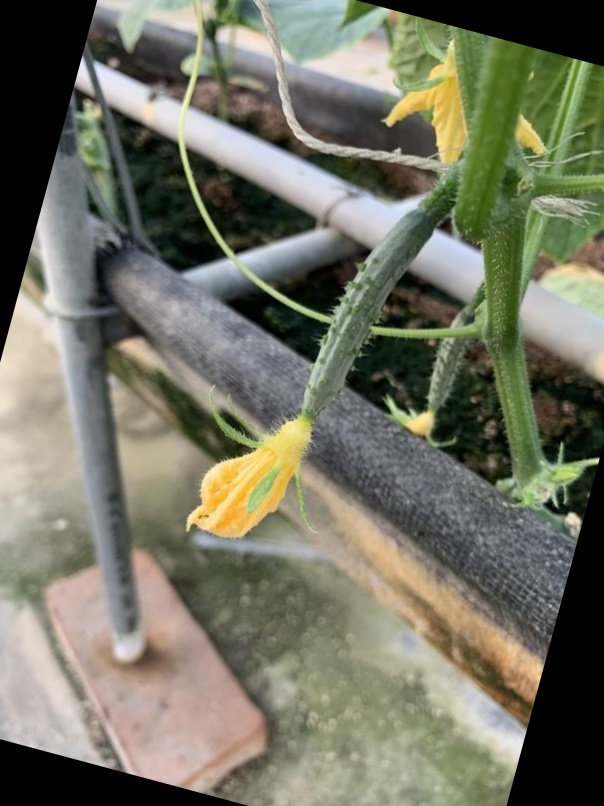bear: (196, 207, 443, 549)
